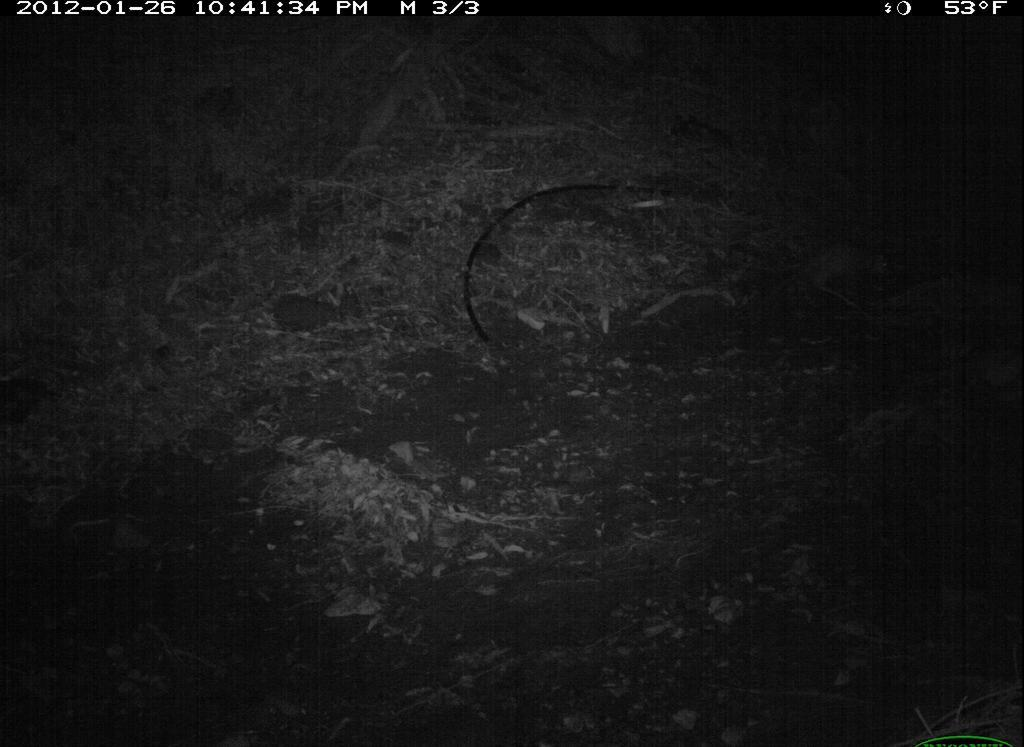opossum: (751, 228, 923, 327)
